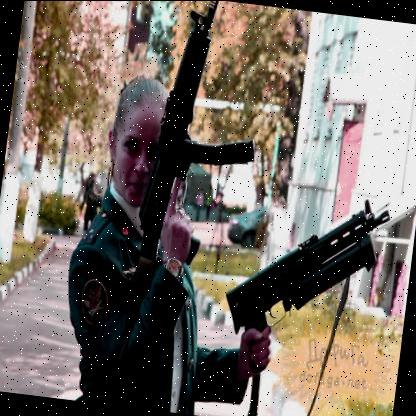rifle: (119, 0, 269, 324), (213, 177, 399, 390)
